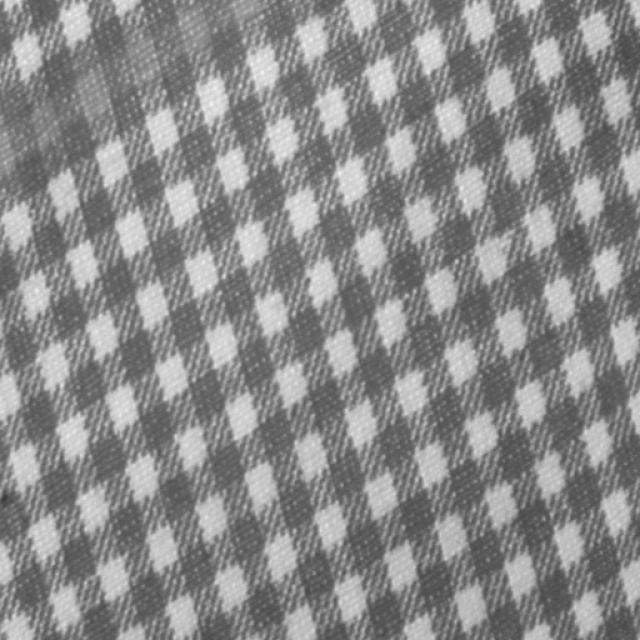Stain-Defect: (0, 0, 295, 174)
